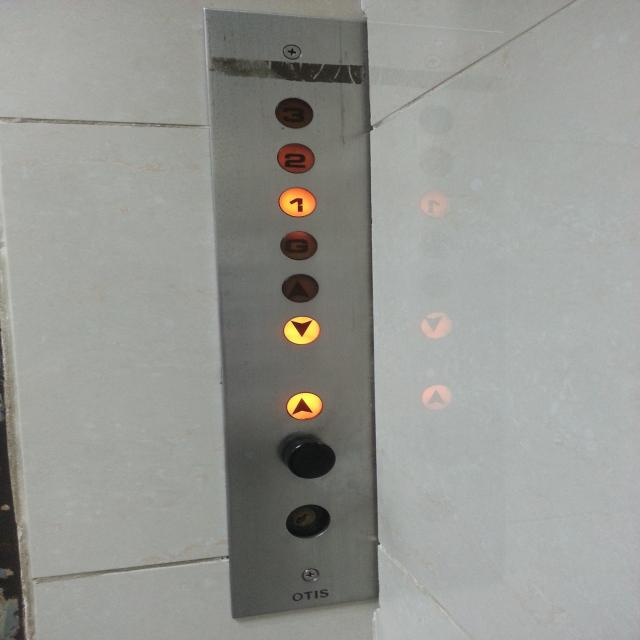1: (278, 186, 315, 218)
2: (275, 141, 317, 175)
3: (272, 96, 314, 130)
G: (278, 228, 321, 262)
down: (280, 314, 321, 348), (419, 310, 454, 339)
empty: (281, 436, 335, 480)
keyhole: (283, 501, 335, 541)
unknown: (418, 188, 453, 219)
up: (279, 272, 322, 304), (285, 392, 326, 421), (420, 385, 453, 411)
